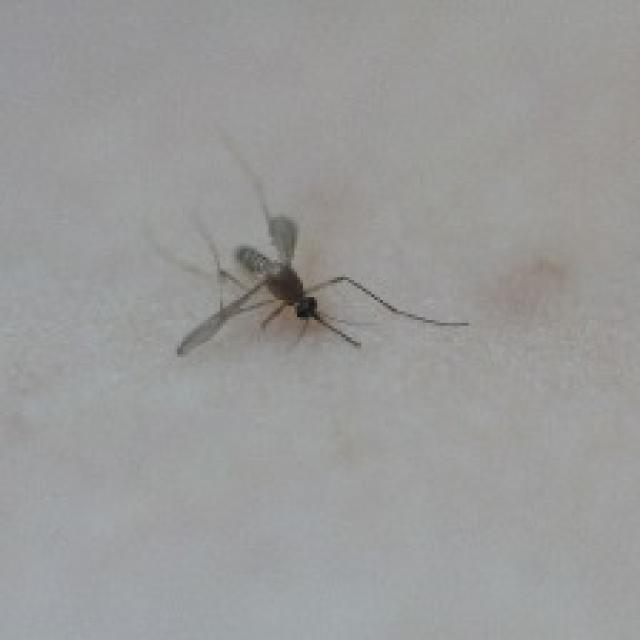culex: (152, 126, 468, 357)
